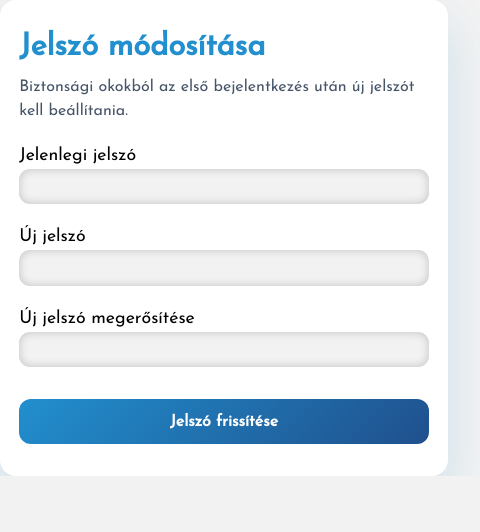
Test: ChangePasswordModal › should validate matching new passwords
The width and height of the screenshot is (480, 532).
Type "old-password" into the password field labelled "Jelenlegi jelszó" at (224, 187), box 19,169 -> 429,204
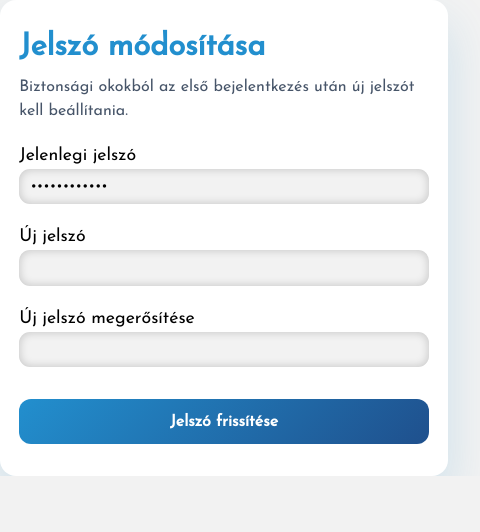
Type "new-password" into the password field labelled "Új jelszó" at (224, 268), box 19,250 -> 429,286
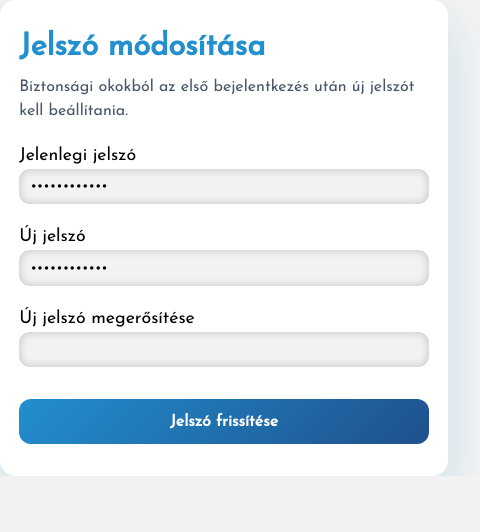
Type "different-password" into the password field labelled "Új jelszó megerősítése" at (224, 350), box 19,332 -> 429,367
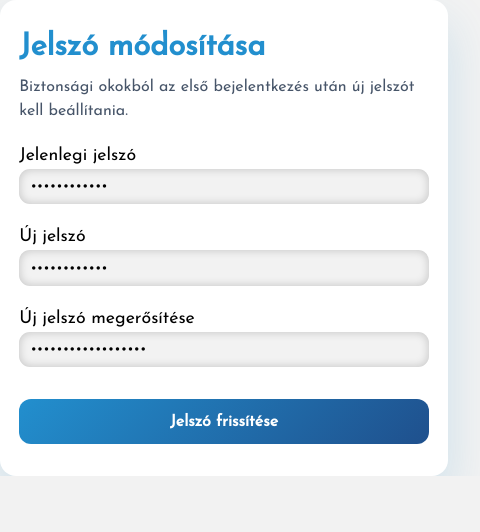
Click the button "Jelszó frissítése" at (224, 422), box 19,399 -> 429,444
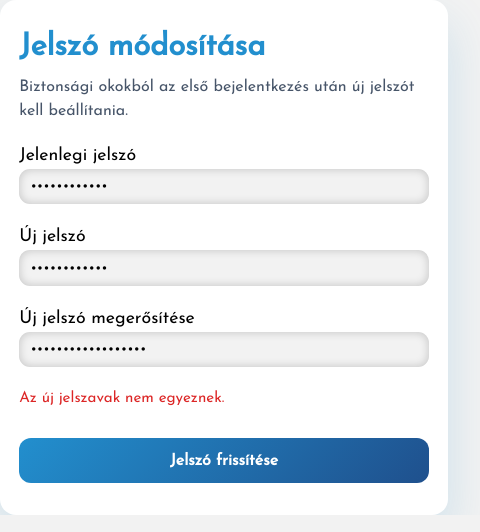
Now the text "Az új jelszavak nem egyeznek." is shown, box 19,391 -> 224,406
